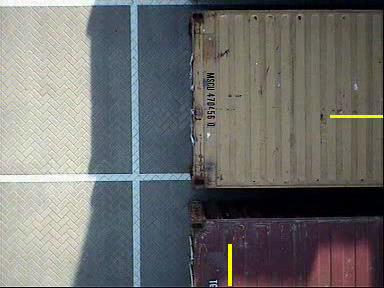groundmarker_2: (106, 218, 174, 260), (102, 78, 170, 119)
